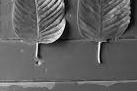kratom: (5, 0, 71, 70), (76, 0, 136, 71), (0, 0, 1, 65)
